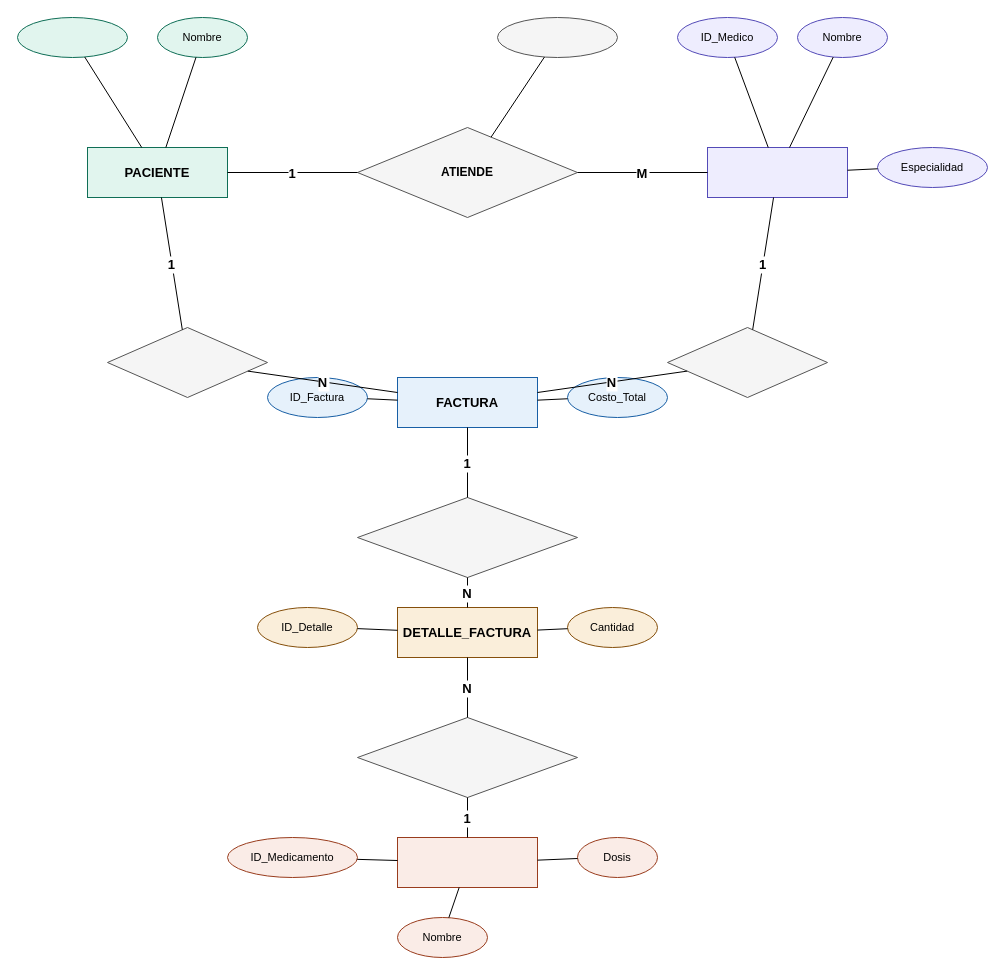
The diagram is 1005 pixels wide and 975 high, and some of its shapes have lost their labels. The centre of each missing label's shape, as x and y in pixels:
CONTIENE: pixel 467 537
EMITE: pixel 747 362
Fecha_Consulta: pixel 557 37
GENERA: pixel 187 362
ID_Paciente: pixel 72 37
INCLUYE: pixel 467 757
MEDICAMENTO: pixel 467 862
MEDICO: pixel 777 172
